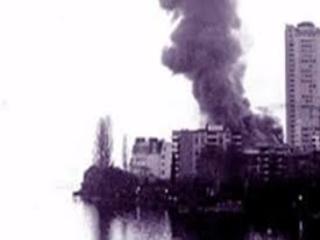smoke: (155, 4, 277, 145)
